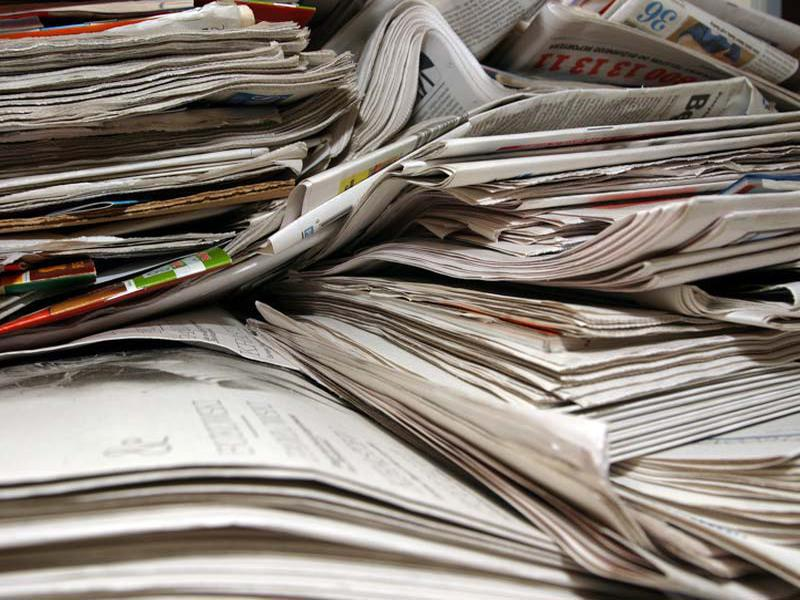paper: (295, 189, 800, 599), (3, 342, 559, 600), (1, 4, 353, 344), (357, 1, 800, 204)
